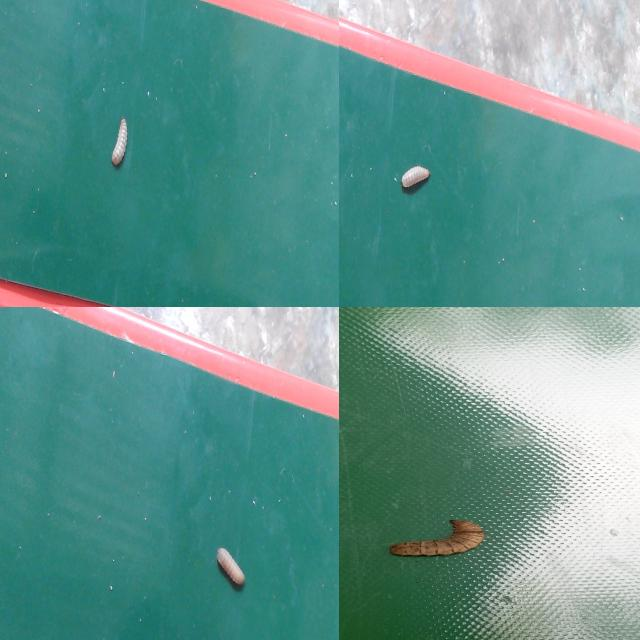Maggot: (388, 518, 485, 560), (216, 550, 247, 593), (110, 119, 131, 170), (398, 164, 432, 195)
